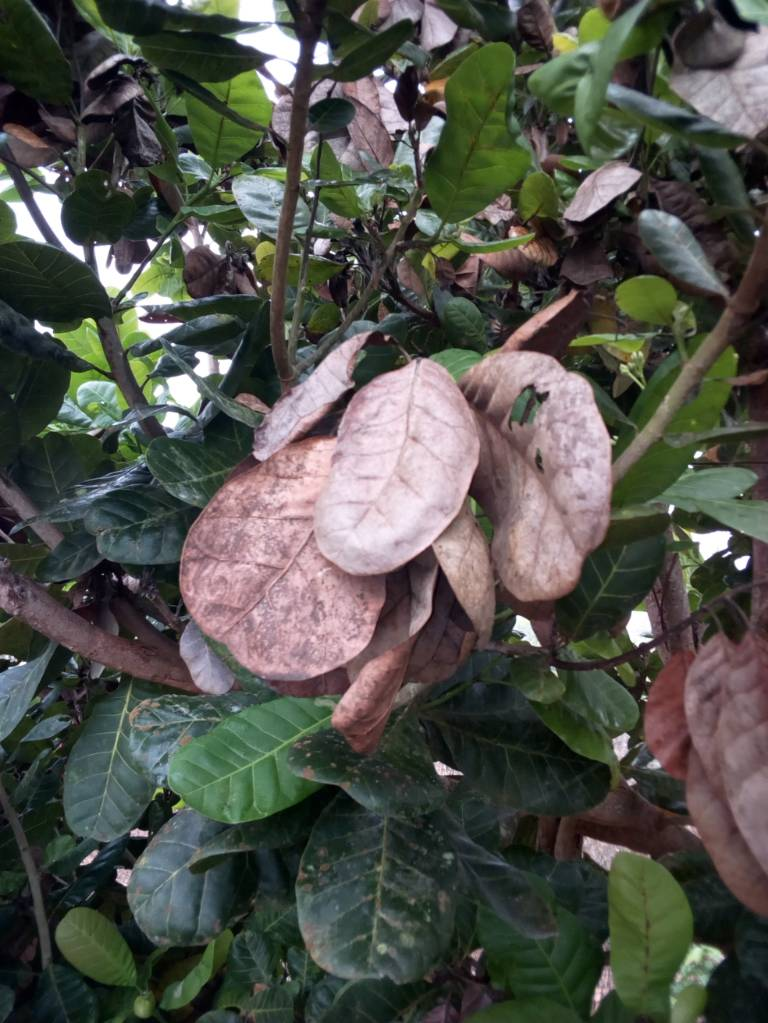Dessèchement des bourgeons: (319, 198, 456, 335)
